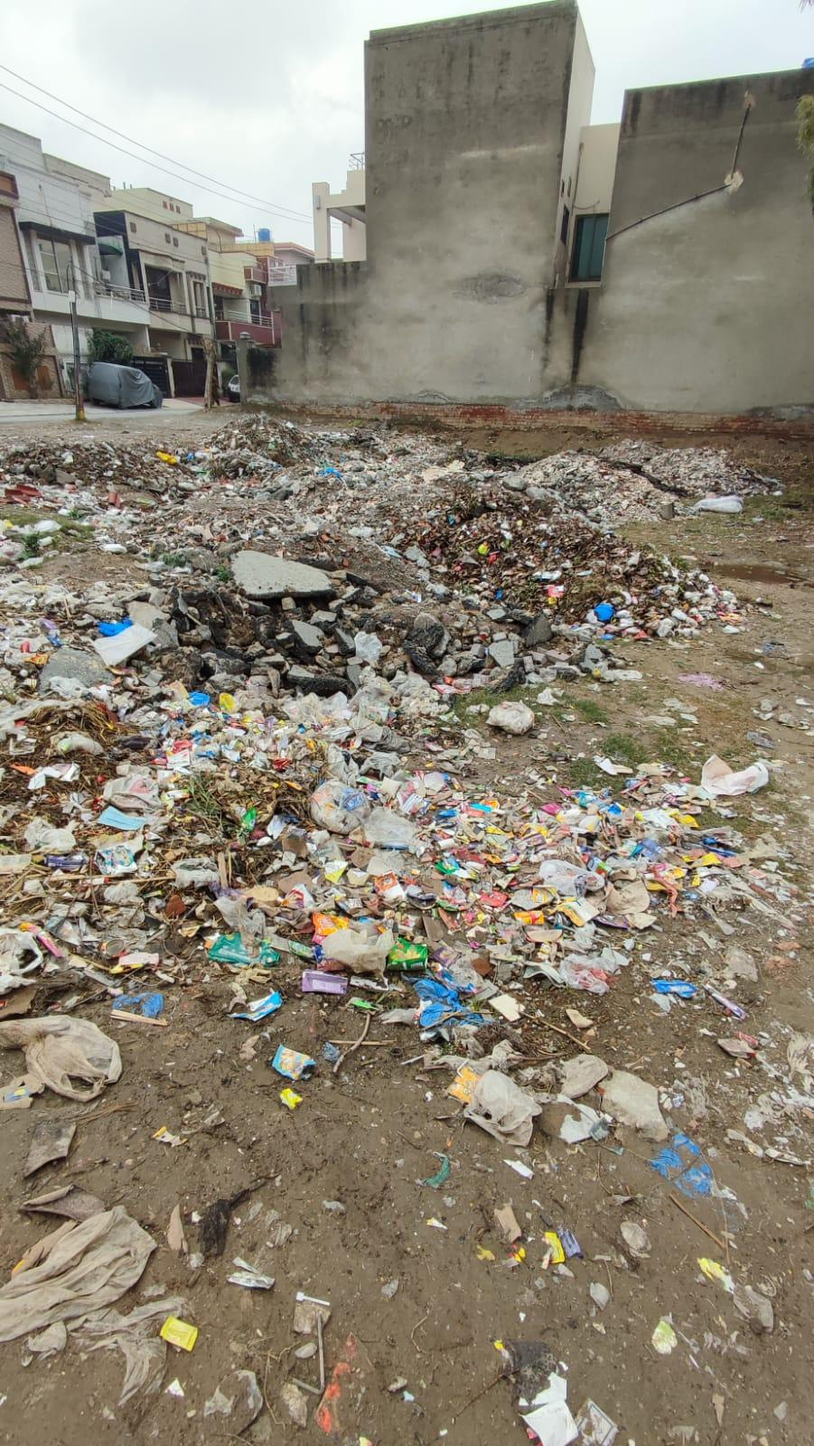garbage: (7, 437, 814, 1083)
